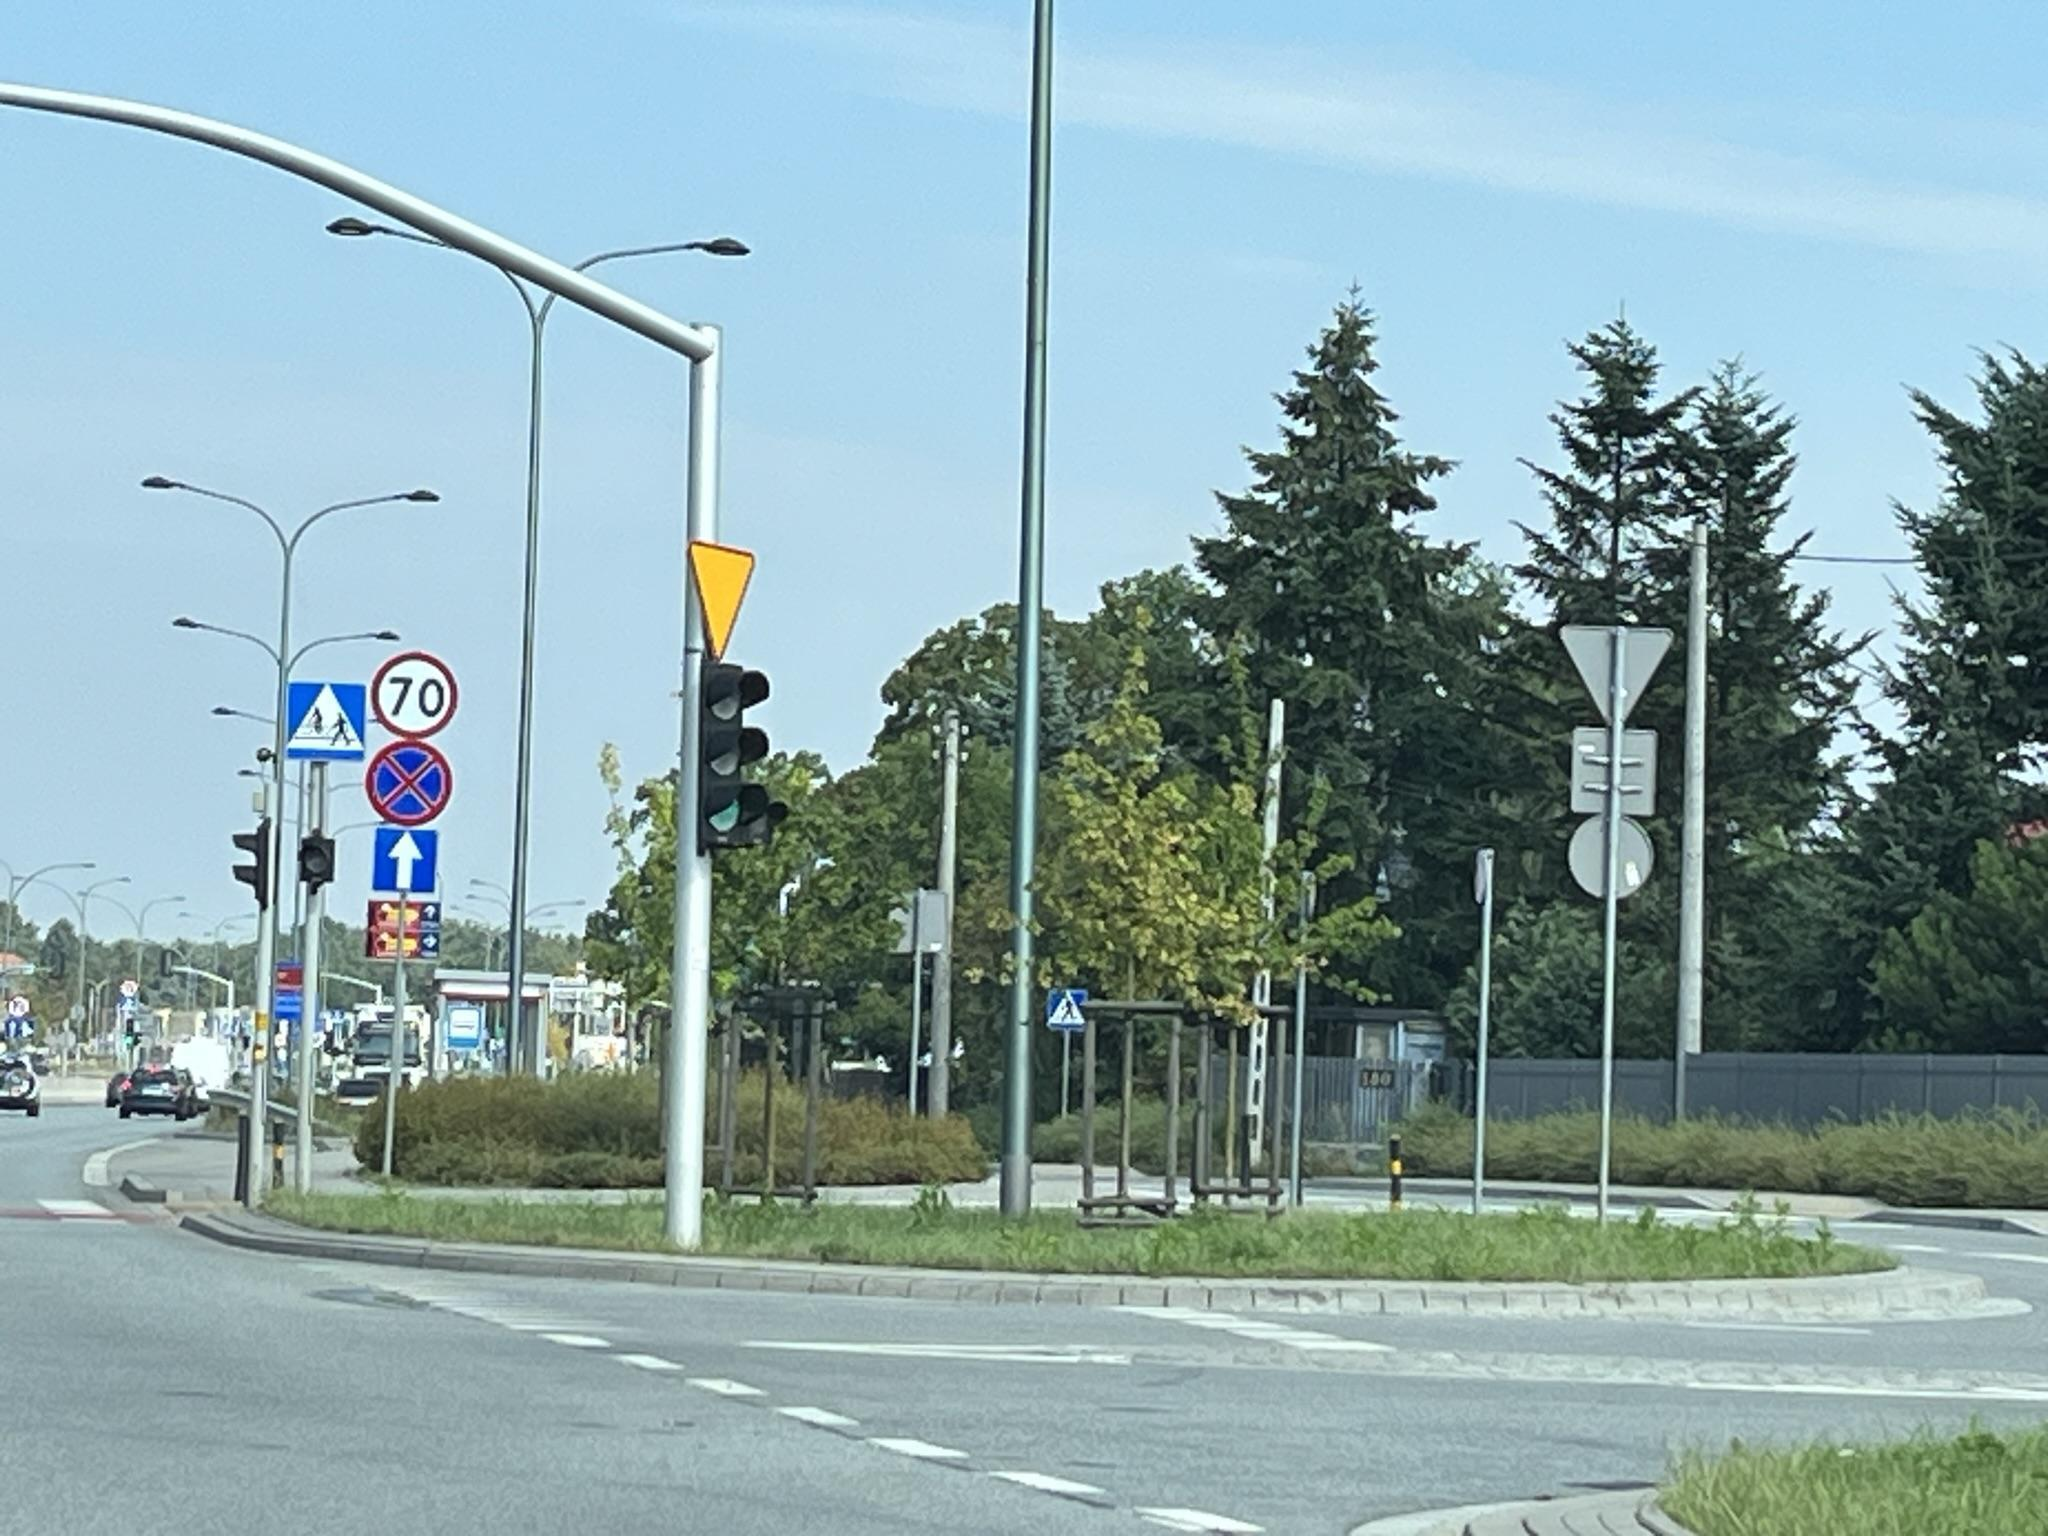information: (286, 679, 367, 762), (372, 828, 438, 895), (1048, 989, 1090, 1031), (448, 1007, 480, 1050), (119, 997, 136, 1010)
other: (4, 1020, 34, 1038)
prohibitory: (369, 648, 462, 740), (365, 739, 454, 826), (6, 994, 29, 1019), (120, 981, 137, 996)
warning: (686, 540, 756, 664)
